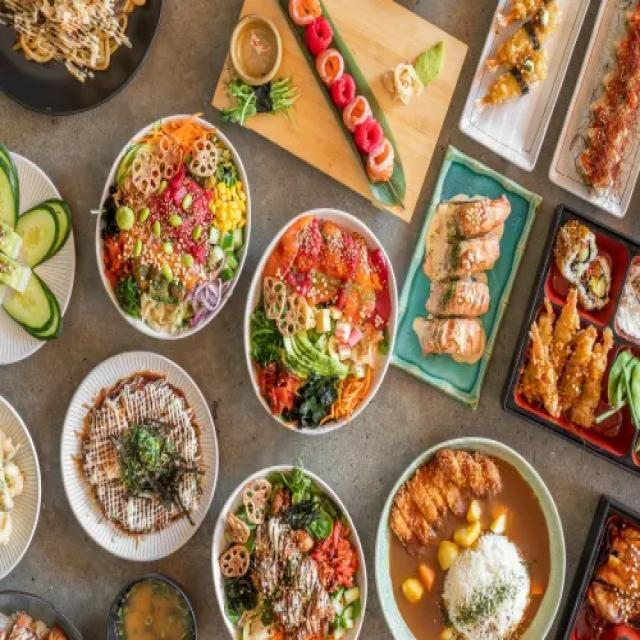banh xeo Nhat: (64, 363, 210, 540), (0, 0, 156, 84)
com ca ri: (370, 435, 568, 640)
kimbab: (556, 216, 618, 314)
sashimi: (100, 122, 244, 340), (246, 216, 390, 423), (214, 471, 369, 640), (278, 0, 400, 174)
sushi: (409, 174, 522, 368), (569, 0, 640, 194)
tempura: (511, 306, 613, 433), (468, 0, 564, 125)
